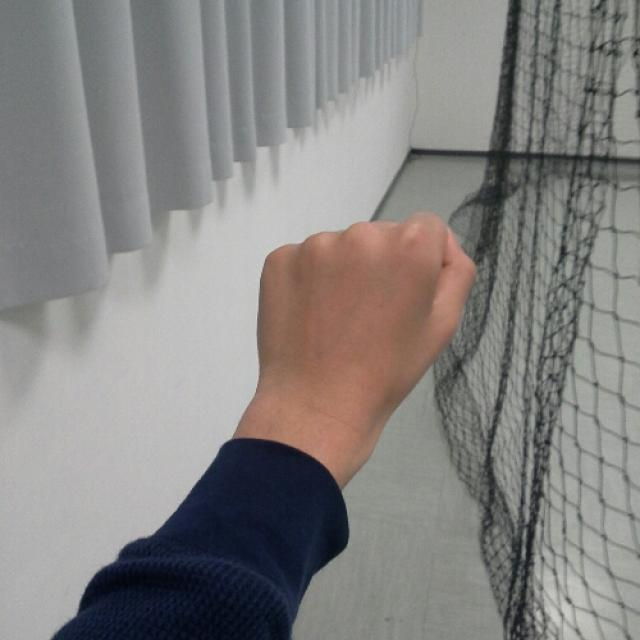rock: (255, 210, 481, 410)
